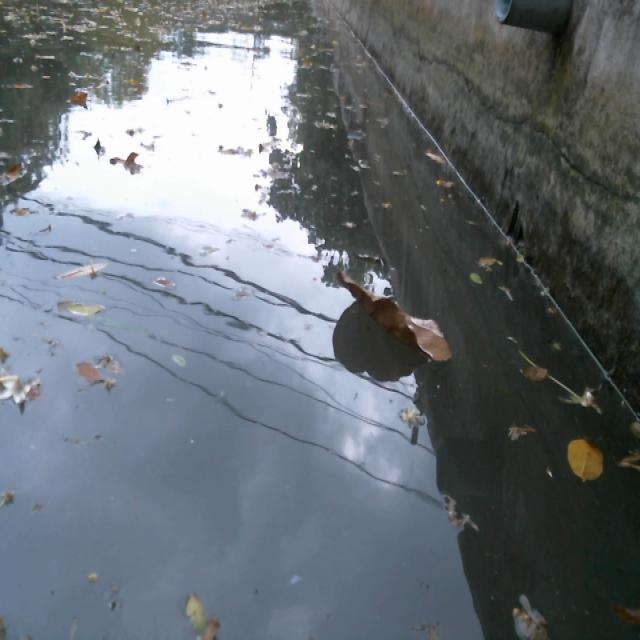Big-leaf: (327, 257, 456, 369)
Small-leaf: (561, 428, 608, 488), (504, 590, 550, 640), (177, 589, 222, 640), (0, 365, 45, 411), (51, 255, 108, 285), (54, 292, 109, 323), (518, 361, 551, 386), (616, 444, 640, 475), (214, 142, 250, 161), (66, 86, 92, 111), (418, 147, 449, 167), (0, 160, 28, 182), (108, 152, 142, 169), (430, 174, 459, 193), (620, 603, 640, 629), (474, 252, 505, 268), (0, 483, 16, 511), (0, 339, 15, 365), (467, 266, 486, 286), (90, 133, 105, 156), (11, 201, 30, 218)
